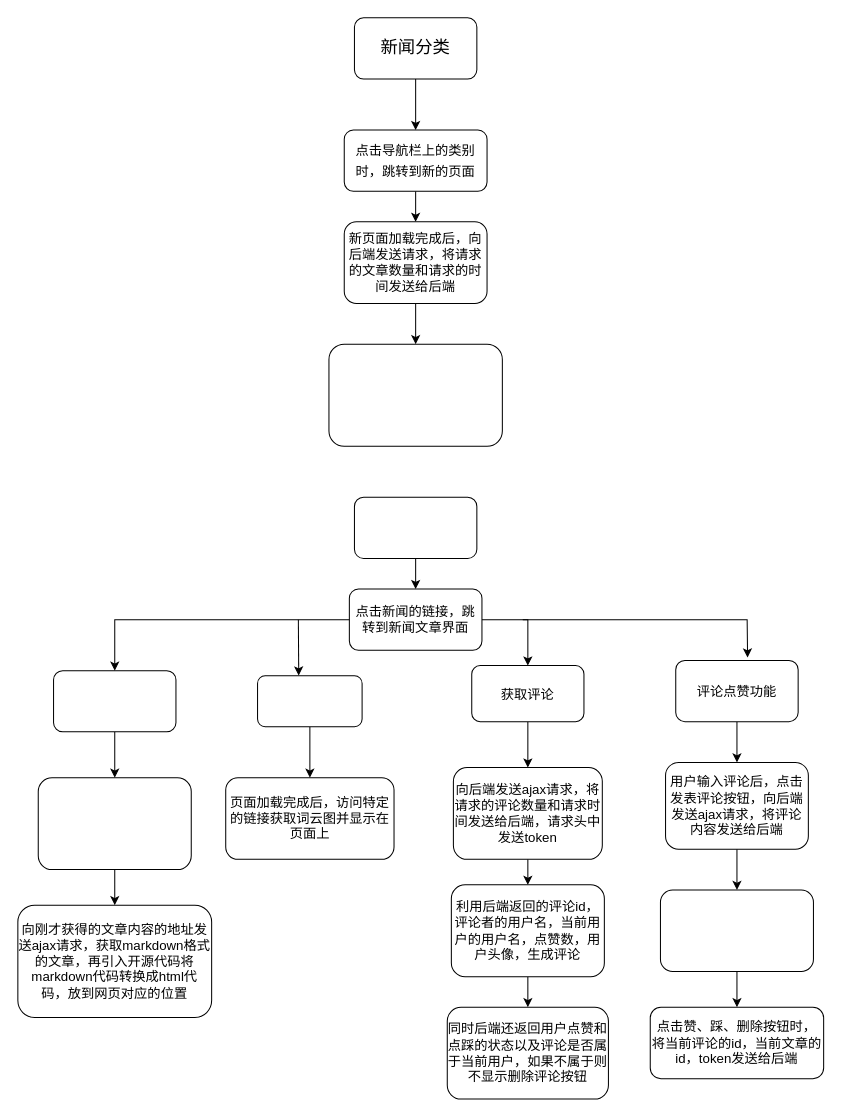
This 842x1117 diagram has some shape labels left out. Each missing label, with the centre of its shape:
"利用后端返回的数据（新闻文章的链接、新闻标题、新闻摘要、图片、新闻发布时间、新闻主题词），用js动态创建节点，将新闻的简介展示在页面上" belongs at pixel 415 394.
"新闻文章界面" belongs at pixel 415 527.
"根据后端返回的数据生成评论" belongs at pixel 736 930.
"获取新闻的文章内容" belongs at pixel 114 701.
"词云图" belongs at pixel 309 701.
"页面加载完成后，向后端发送ajax请求，获取文章的id、文章作者的id、文章内容的地址" belongs at pixel 114 823.
